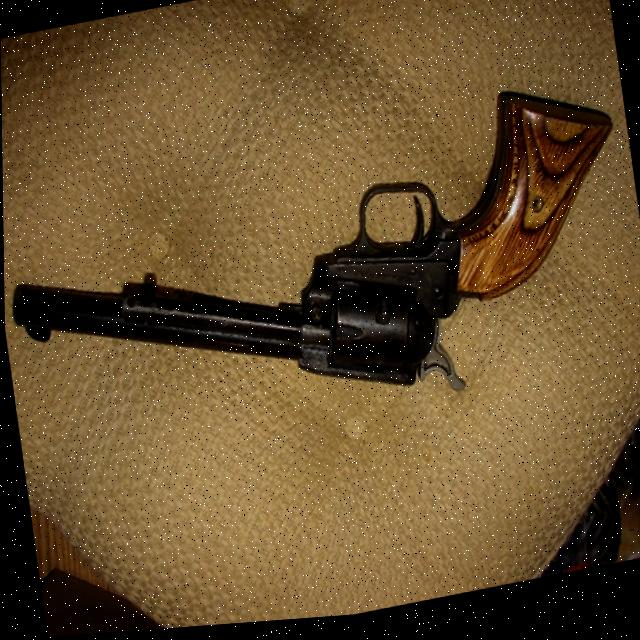pistol: (1, 73, 640, 479)
